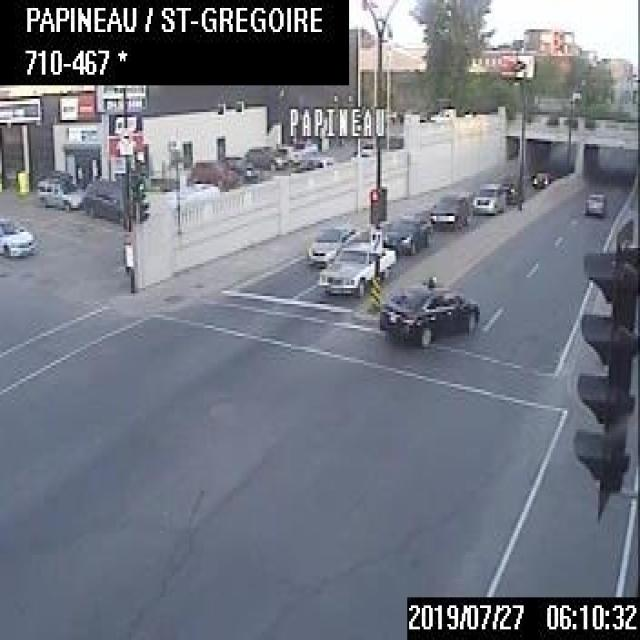vehicle: (376, 283, 482, 344), (316, 238, 394, 293), (306, 220, 360, 264), (381, 210, 432, 256), (82, 171, 122, 220), (34, 172, 81, 211), (189, 156, 240, 189), (431, 189, 473, 229), (0, 216, 40, 256), (243, 142, 283, 171), (472, 180, 504, 210), (495, 176, 516, 205), (288, 139, 315, 160), (584, 190, 604, 213), (529, 168, 551, 187)
